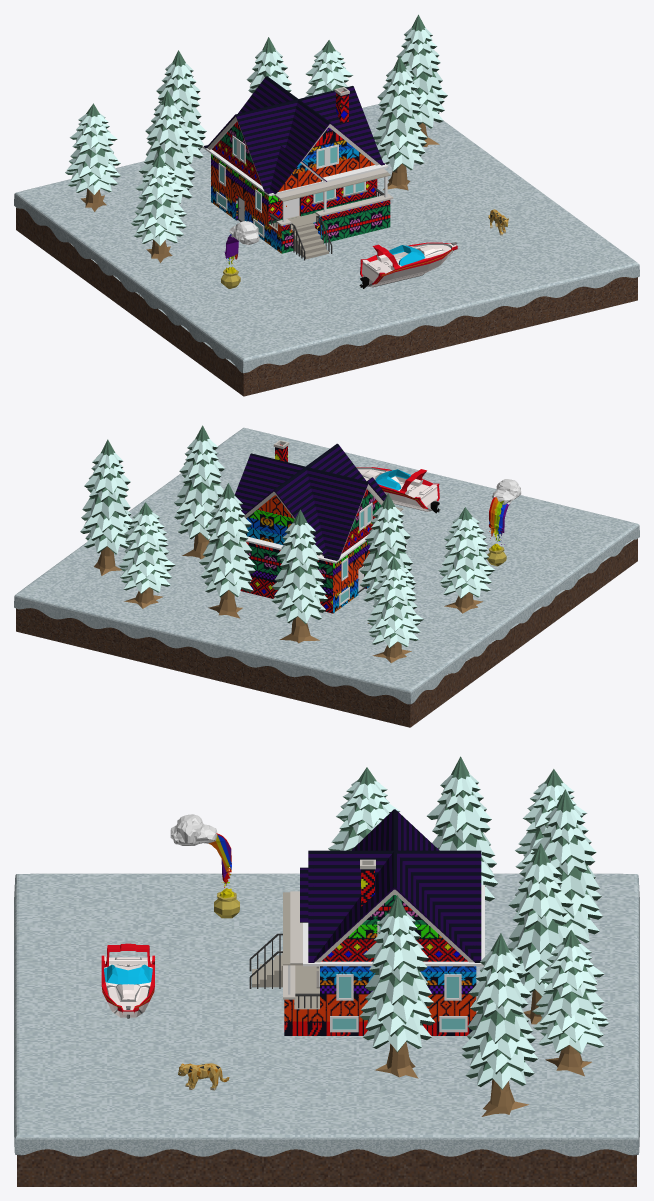
3 views of the same model, one above another, from view 1: azimuth 30°, elevation 25°; view 2: azimuth 150°, elevation 25°; view 3: azimuth 270°, elevation 25° (orthographic). The views are drawn at different scales.
Parts seen in each view (by area): view 1: Cube.003, Cube.966, VEHICLES_BOAT, OBJRANDOM_RAINBOW; view 2: Cube.003, Cube.966, VEHICLES_BOAT, OBJRANDOM_RAINBOW; view 3: Cube.003, Cube.966, VEHICLES_BOAT, OBJRANDOM_RAINBOW, ANIMAL_JAGUAR.
Boxes of the visible parts, box(x1,y1,x2,y2) form: Cube.003: box(14, 14, 639, 396); Cube.966: box(202, 76, 393, 260); VEHICLES_BOAT: box(359, 242, 457, 288); OBJRANDOM_RAINBOW: box(221, 221, 259, 288); Cube.003: box(14, 425, 639, 727); Cube.966: box(235, 440, 405, 613); VEHICLES_BOAT: box(356, 467, 440, 513); OBJRANDOM_RAINBOW: box(487, 479, 521, 566); Cube.003: box(14, 756, 639, 1186); Cube.966: box(249, 809, 484, 1035); VEHICLES_BOAT: box(101, 943, 154, 1018); OBJRANDOM_RAINBOW: box(170, 814, 239, 918); ANIMAL_JAGUAR: box(178, 1063, 229, 1090).
Size of the model in its own units: 4040 by 1695 by 4040.
Materials: 39 (7 with a texture image).
